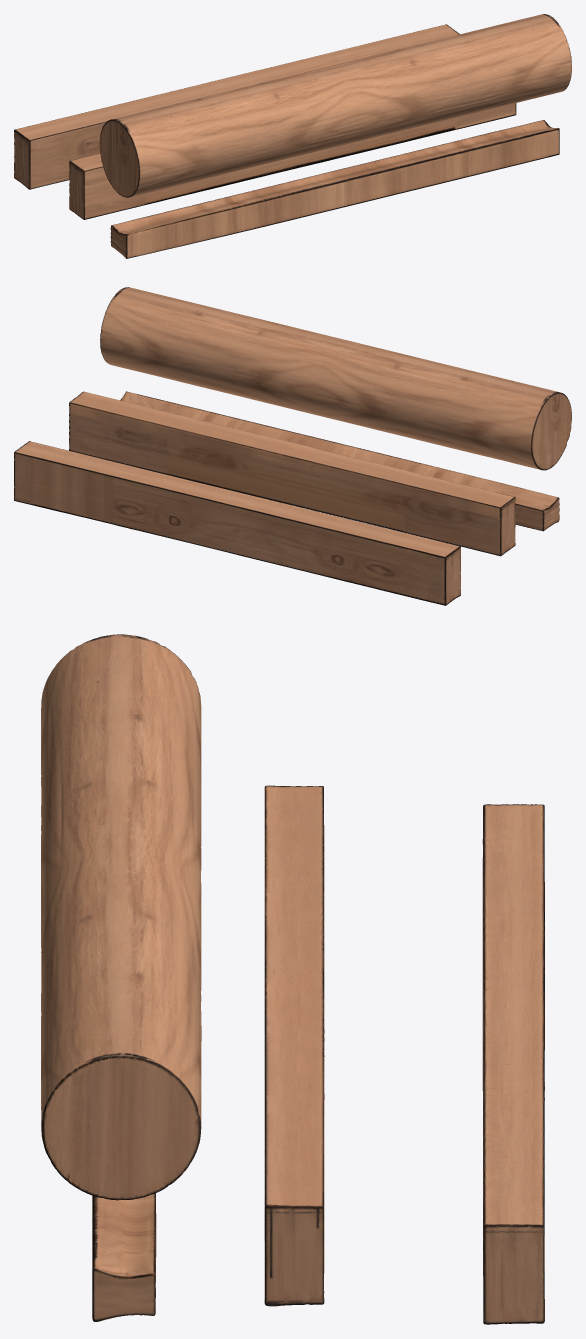
The model's file is 组件集合壹.glb.
3 renders of one model, top to bottom at view 1: azimuth 30°, elevation 25°; view 2: azimuth 150°, elevation 25°; view 3: azimuth 270°, elevation 25°, orthographic. The views are drawn at different scales.
Size of the model in its own units: 1.9 by 0.5646 by 0.9579.
1 material, 1 textured.
